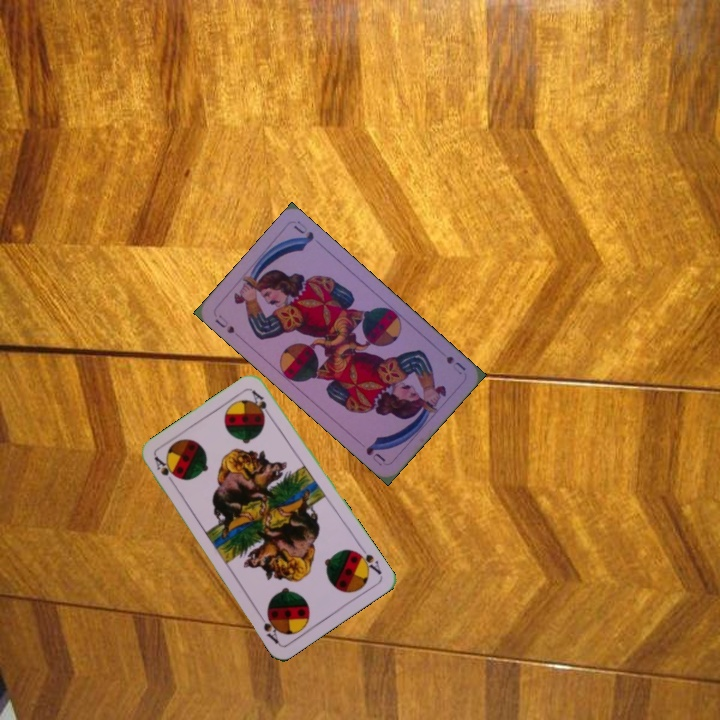SA: (351, 542, 385, 578), (150, 453, 179, 489)
SU: (211, 310, 237, 336), (442, 352, 468, 377)
